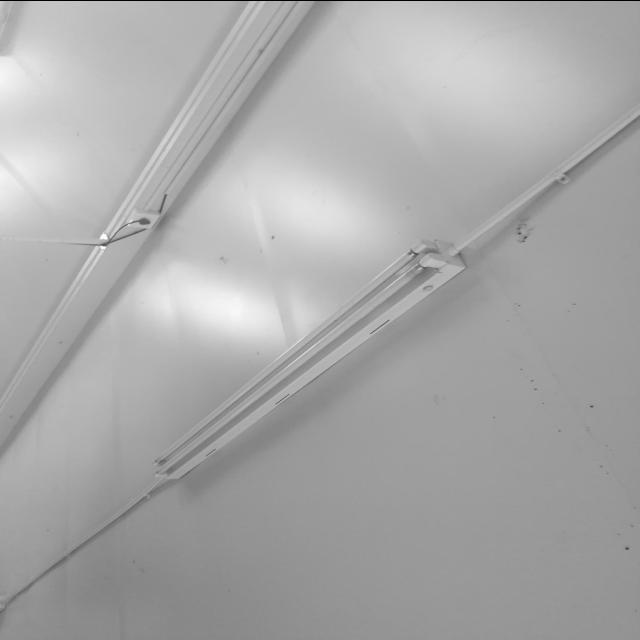light: (144, 236, 468, 487)
